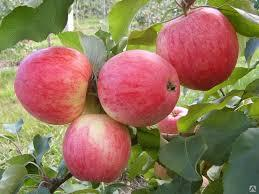Apple: (99, 49, 179, 128), (158, 7, 238, 86), (16, 47, 93, 123), (66, 118, 130, 182)
